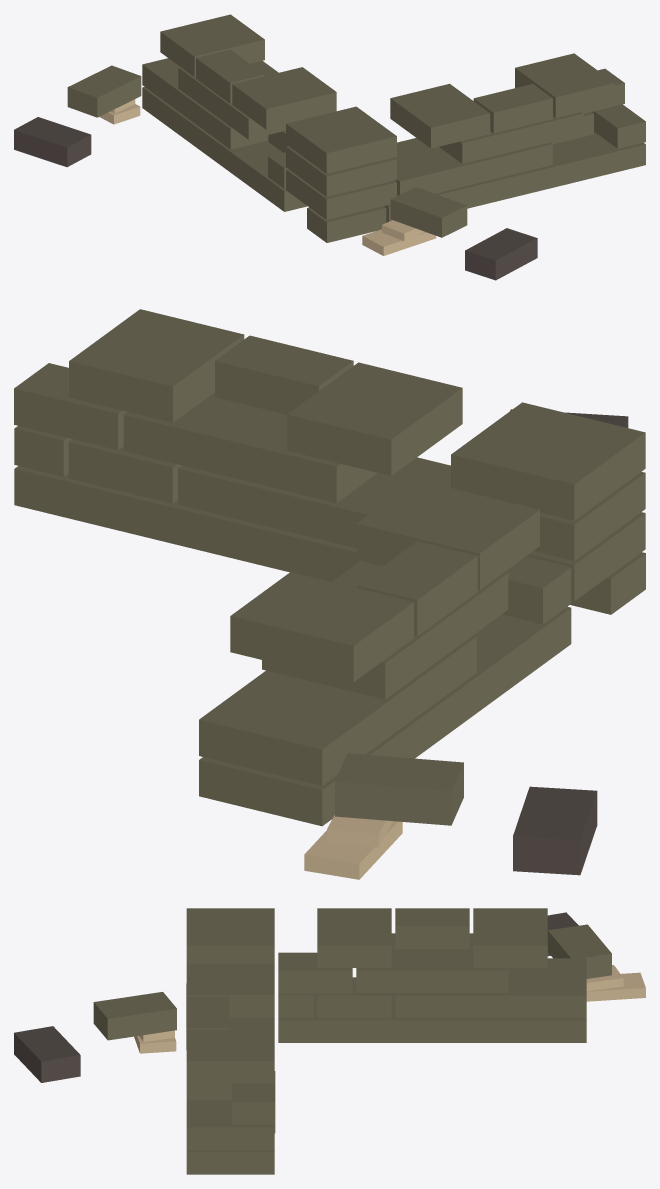
File: SM_SacosEsquina_v0_Recto_e1_Danado_LOD1.fbx
The picture shows the model from 3 angles, top to bottom: view 1: azimuth 30°, elevation 25°; view 2: azimuth 150°, elevation 25°; view 3: azimuth 270°, elevation 25°; orthographic projection. The views are drawn at different scales.
Visible parts, largest first — view 1: SM_sacos_piezas_v1_LOD1; view 2: SM_sacos_piezas_v1_LOD1; view 3: SM_sacos_piezas_v1_LOD1.
Boxes of the visible parts, bbox=[...] form: SM_sacos_piezas_v1_LOD1: bbox=[14, 14, 645, 280]; SM_sacos_piezas_v1_LOD1: bbox=[14, 309, 645, 879]; SM_sacos_piezas_v1_LOD1: bbox=[14, 908, 645, 1174].
Size of the model in its own units: 6.24 by 1.18 by 6.89.
